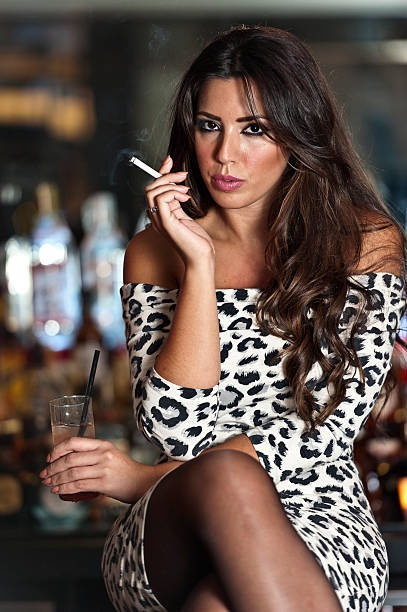sigaretta: (130, 153, 183, 193)
